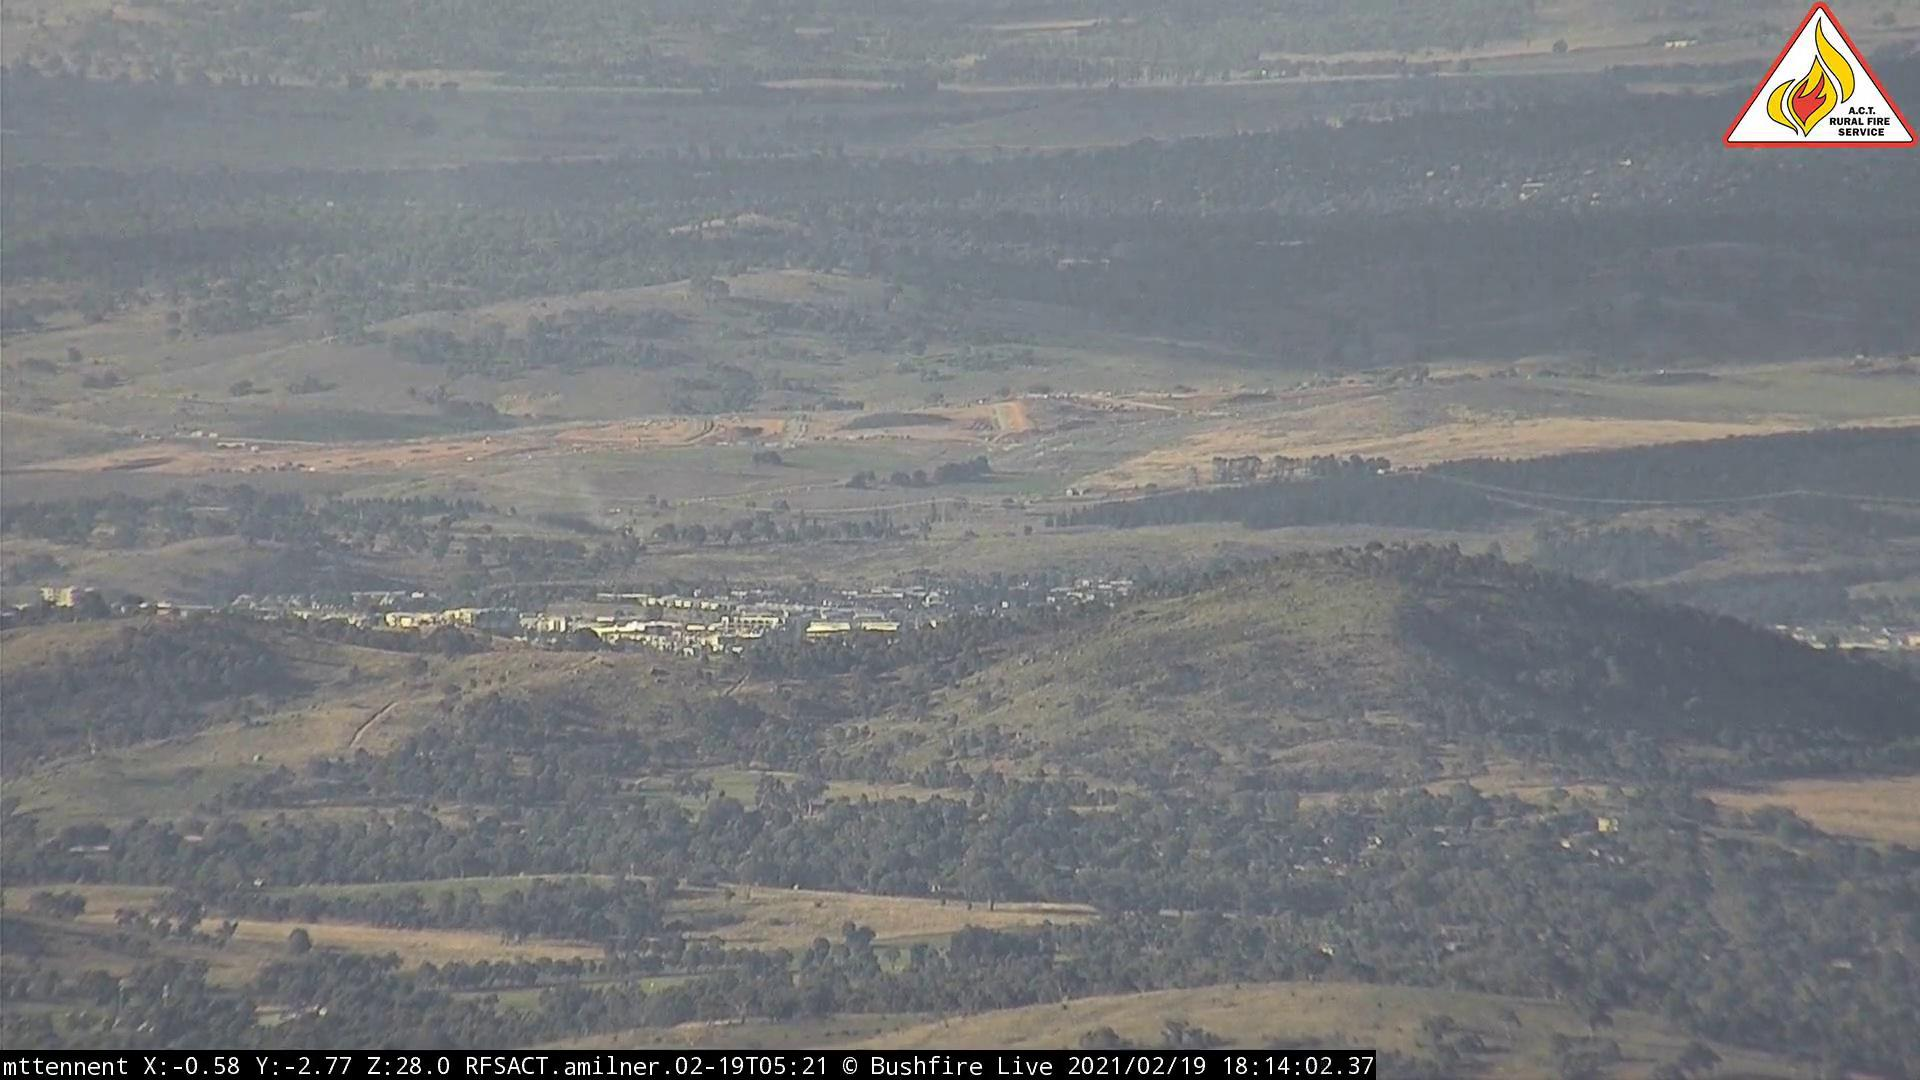Smoke: (611, 502, 662, 563)
